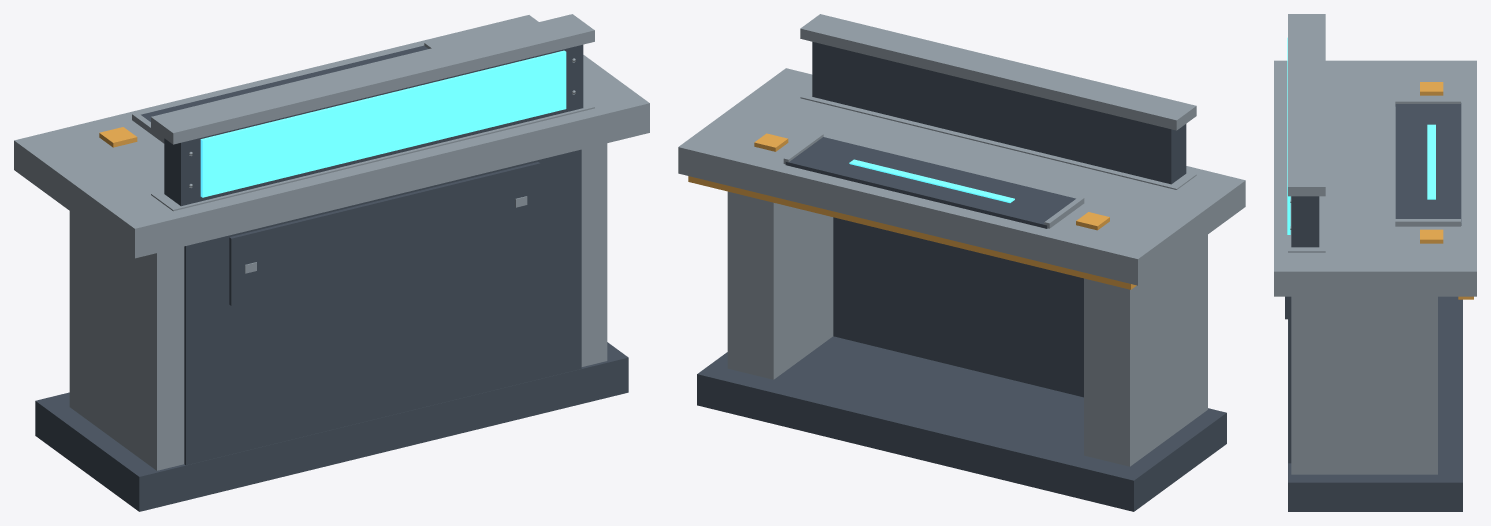
The picture shows the model from 3 angles, left to right: view 1: azimuth 30°, elevation 25°; view 2: azimuth 150°, elevation 25°; view 3: azimuth 270°, elevation 25°; orthographic projection. The views are drawn at different scales.
Visible parts, largest first — view 1: Backbone, TopDeck, LeftLeg, Plinth, ScreenGlass, RearPanel, ScreenTopTrim, RightLeg, ScreenHousing, ScreenBottomTrim, Keyboard; view 2: TopDeck, Plinth, Backbone, LeftLeg, ScreenHousing, RightLeg, ScreenTopTrim, Keyboard, FrontRim, ScreenBottomTrim, KeyboardGlow; view 3: TopDeck, RightLeg, Plinth, Keyboard, ScreenTopTrim, ScreenHousing, ScreenBottomTrim, KeyboardGlow, Backbone, KeyboardGuide_R, Button_R, Button_L (+2 smaller).
Boxes of the visible parts, bbox=[...] form: Backbone: bbox=[184, 149, 581, 465]; TopDeck: bbox=[14, 15, 649, 258]; LeftLeg: bbox=[69, 211, 184, 470]; Plinth: bbox=[35, 342, 628, 511]; ScreenGlass: bbox=[200, 50, 566, 197]; RearPanel: bbox=[229, 162, 540, 305]; ScreenTopTrim: bbox=[151, 14, 594, 144]; RightLeg: bbox=[581, 143, 607, 366]; ScreenHousing: bbox=[164, 44, 583, 206]; ScreenBottomTrim: bbox=[151, 99, 594, 211]; Keyboard: bbox=[141, 45, 428, 121]; TopDeck: bbox=[678, 68, 1245, 285]; Plinth: bbox=[697, 336, 1226, 511]; Backbone: bbox=[833, 217, 1083, 397]; LeftLeg: bbox=[1084, 234, 1207, 466]; ScreenHousing: bbox=[812, 42, 1186, 184]; RightLeg: bbox=[727, 191, 833, 379]; ScreenTopTrim: bbox=[800, 14, 1196, 130]; Keyboard: bbox=[785, 137, 1075, 228]; FrontRim: bbox=[688, 176, 1136, 289]; ScreenBottomTrim: bbox=[800, 88, 1196, 189]; KeyboardGlow: bbox=[849, 159, 1014, 202]; TopDeck: bbox=[1274, 60, 1476, 296]; RightLeg: bbox=[1291, 296, 1437, 474]; Plinth: bbox=[1288, 296, 1462, 511]; Keyboard: bbox=[1395, 103, 1461, 225]; ScreenTopTrim: bbox=[1288, 14, 1325, 196]; ScreenHousing: bbox=[1291, 196, 1319, 247]; ScreenBottomTrim: bbox=[1288, 196, 1325, 252]; KeyboardGlow: bbox=[1427, 124, 1435, 199]; Backbone: bbox=[1288, 296, 1291, 463]; KeyboardGuide_R: bbox=[1395, 219, 1460, 226]; Button_R: bbox=[1420, 229, 1443, 243]; Button_L: bbox=[1420, 82, 1443, 95].
Bounding box in the file's own units: 1.6 × 1.1 × 0.65.
